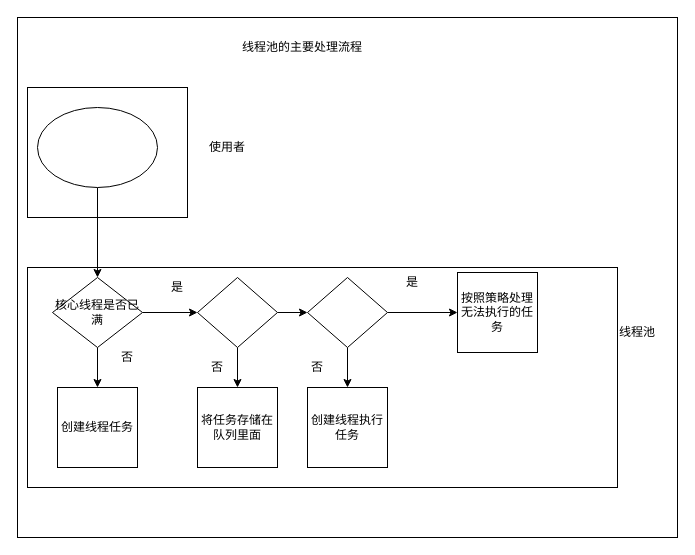
The diagram is 695 pixels wide and 555 high, and some of its shapes have lost their labels. The shapes that lost their labels are listed below. From the top down, each one's centre as x and y in pixels, then its label:
(97,147): 提交任务
(237,312): 队列是否满了
(347,312): 线程池是否满了
